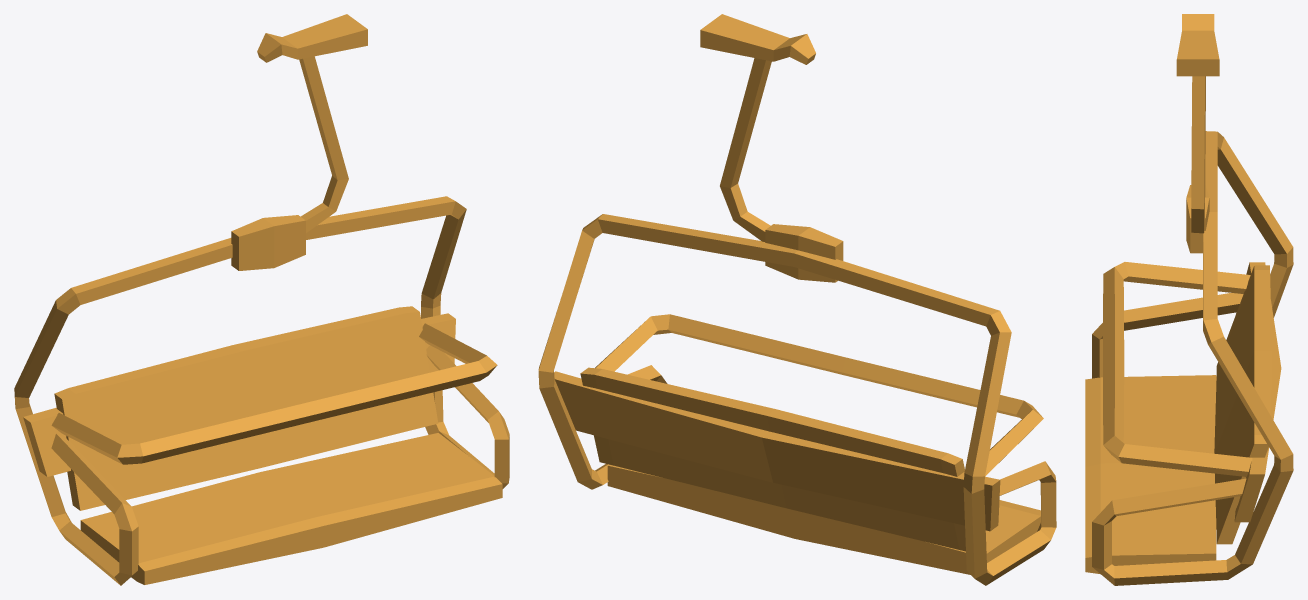
File: ski-lift-seat.fbx
3 views of the same model, side by side, from view 1: azimuth 30°, elevation 25°; view 2: azimuth 150°, elevation 25°; view 3: azimuth 270°, elevation 25° (orthographic). The views are drawn at different scales.
Visible parts, largest first — view 1: ski-lift-seat; view 2: ski-lift-seat; view 3: ski-lift-seat.
Part boxes in pixels (x1=…): ski-lift-seat: x1=14, y1=14, x2=509, y2=585; ski-lift-seat: x1=538, y1=14, x2=1056, y2=585; ski-lift-seat: x1=1085, y1=14, x2=1293, y2=585.
Size of the model in its own units: 2.53 by 2.67 by 1.05.
